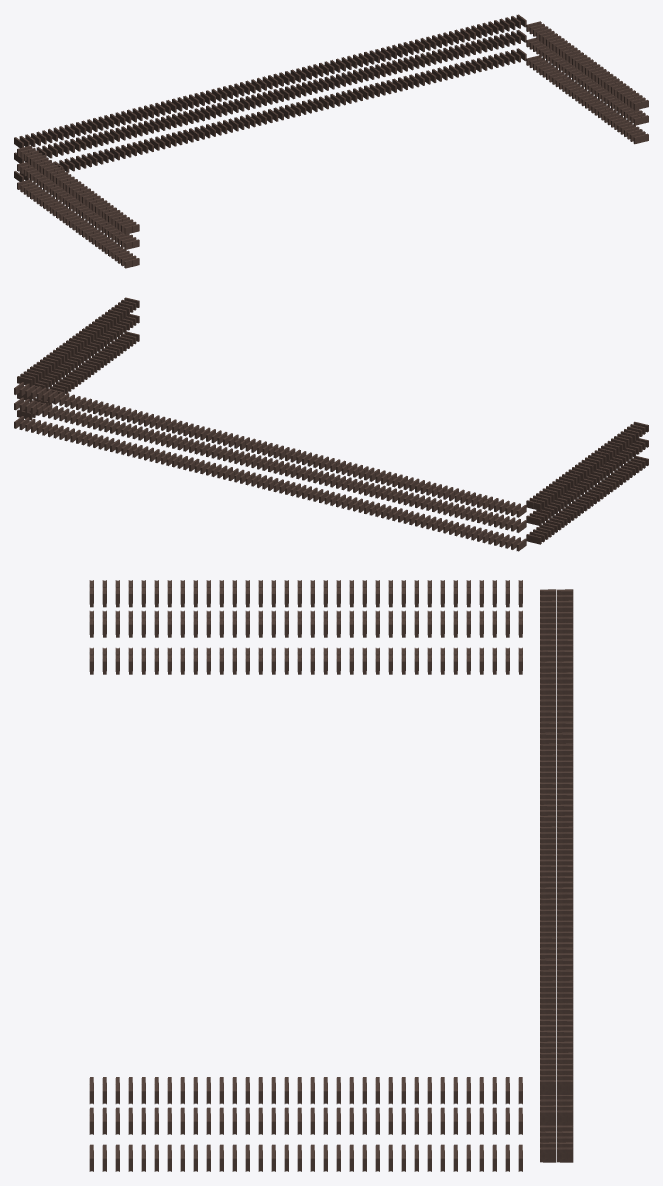
File: SM_Books.fbx
3 renders of one model, top to bottom at view 1: azimuth 30°, elevation 25°; view 2: azimuth 150°, elevation 25°; view 3: azimuth 270°, elevation 25°, orthographic. The views are drawn at different scales.
Parts seen in each view (by area): view 1: Book 8.001, Book 3.001, Book 4.001, Book 1.001, Book 5.001, Book 6.001, Book 13.001, Book 12.001, Book 7.001, Book 11.001, Book 15.001, Book 16.001 (+6 smaller); view 2: Book 6.001, Book 1.001, Book 5.001, Book 3.001, Book 8.001, Book 4.001, Book 11.001, Book 13.001, Book 7.001, Book 12.001, Book 15.001, Book 16.001 (+6 smaller); view 3: Book 1.001, Book 8.001, Book 18.001, Book 17.001, Book 2.001, Book 14.001, Book 9.001, Book 10.001, Book 16.001, Book 15.001, Book 11.001, Book 7.001 (+2 smaller).
Part boxes in pixels (bbox=[...]): Book 8.001: bbox=[18, 17, 526, 148]; Book 3.001: bbox=[18, 32, 526, 163]; Book 4.001: bbox=[18, 51, 526, 181]; Book 1.001: bbox=[14, 14, 522, 146]; Book 5.001: bbox=[14, 30, 522, 161]; Book 6.001: bbox=[14, 48, 522, 180]; Book 13.001: bbox=[17, 181, 132, 268]; Book 12.001: bbox=[17, 162, 132, 249]; Book 7.001: bbox=[17, 147, 132, 234]; Book 11.001: bbox=[526, 23, 641, 110]; Book 15.001: bbox=[526, 38, 641, 125]; Book 16.001: bbox=[526, 57, 641, 144]; Book 6.001: bbox=[14, 419, 522, 551]; Book 1.001: bbox=[14, 385, 522, 517]; Book 5.001: bbox=[14, 400, 522, 532]; Book 3.001: bbox=[18, 397, 526, 529]; Book 8.001: bbox=[18, 382, 526, 514]; Book 4.001: bbox=[18, 416, 526, 548]; Book 11.001: bbox=[24, 299, 139, 386]; Book 13.001: bbox=[533, 457, 648, 544]; Book 7.001: bbox=[533, 423, 648, 510]; Book 12.001: bbox=[533, 439, 648, 525]; Book 15.001: bbox=[24, 314, 139, 401]; Book 16.001: bbox=[24, 333, 139, 420]; Book 1.001: bbox=[557, 589, 573, 1094]; Book 8.001: bbox=[540, 589, 556, 1094]; Book 18.001: bbox=[89, 1151, 522, 1171]; Book 17.001: bbox=[89, 1114, 522, 1134]; Book 2.001: bbox=[89, 587, 522, 607]; Book 14.001: bbox=[89, 1084, 522, 1104]; Book 9.001: bbox=[89, 617, 522, 637]; Book 10.001: bbox=[89, 654, 522, 674]; Book 16.001: bbox=[89, 1144, 522, 1156]; Book 15.001: bbox=[89, 1107, 522, 1119]; Book 11.001: bbox=[89, 1077, 522, 1089]; Book 7.001: bbox=[89, 580, 522, 587].
Bounding box in the file's own units: 519 × 38.23 × 208.
